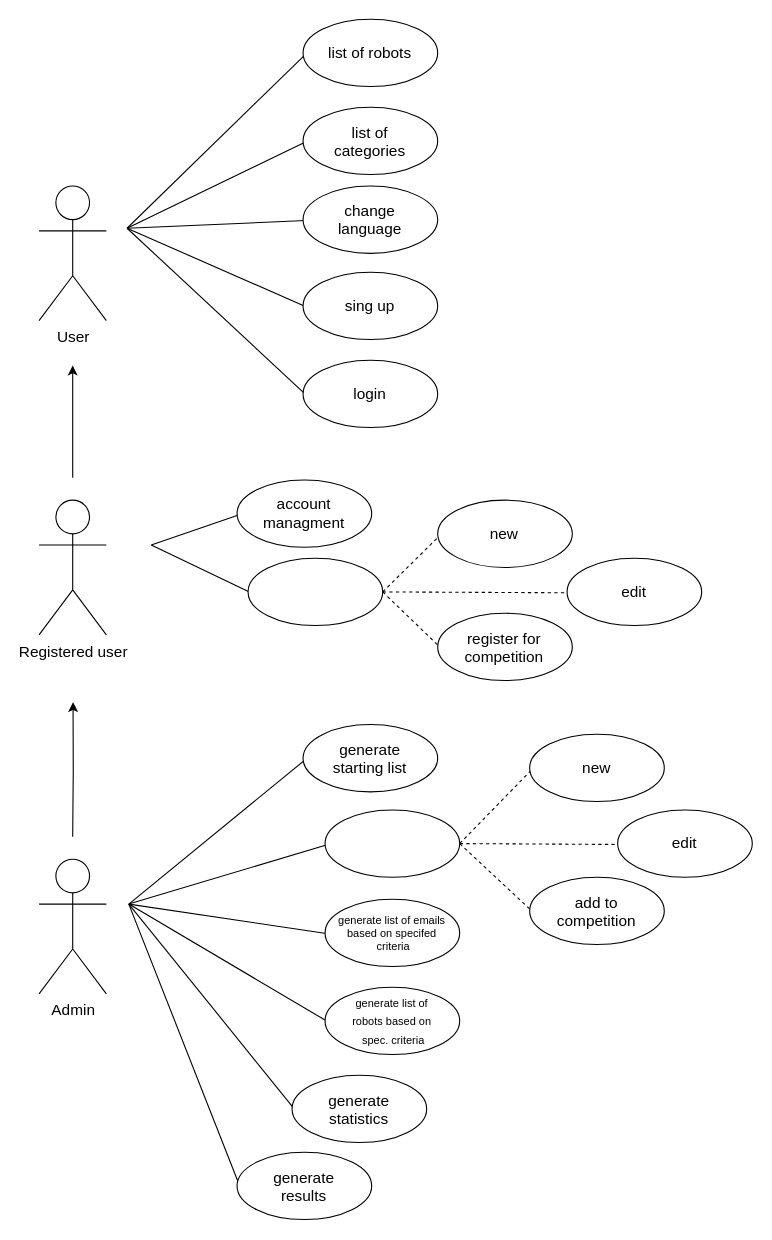
Image size: 772x1240. Some labels were removed from this diagram. Each missing label, with the centre of its shape:
"categories managment" belongs at (392,843).
"robot managment" belongs at (315,591).
